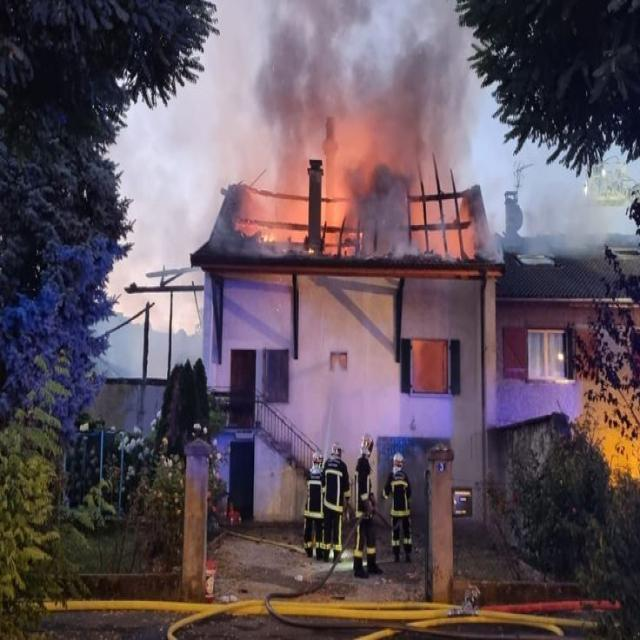Smoke: (266, 13, 362, 104), (391, 24, 465, 133)
